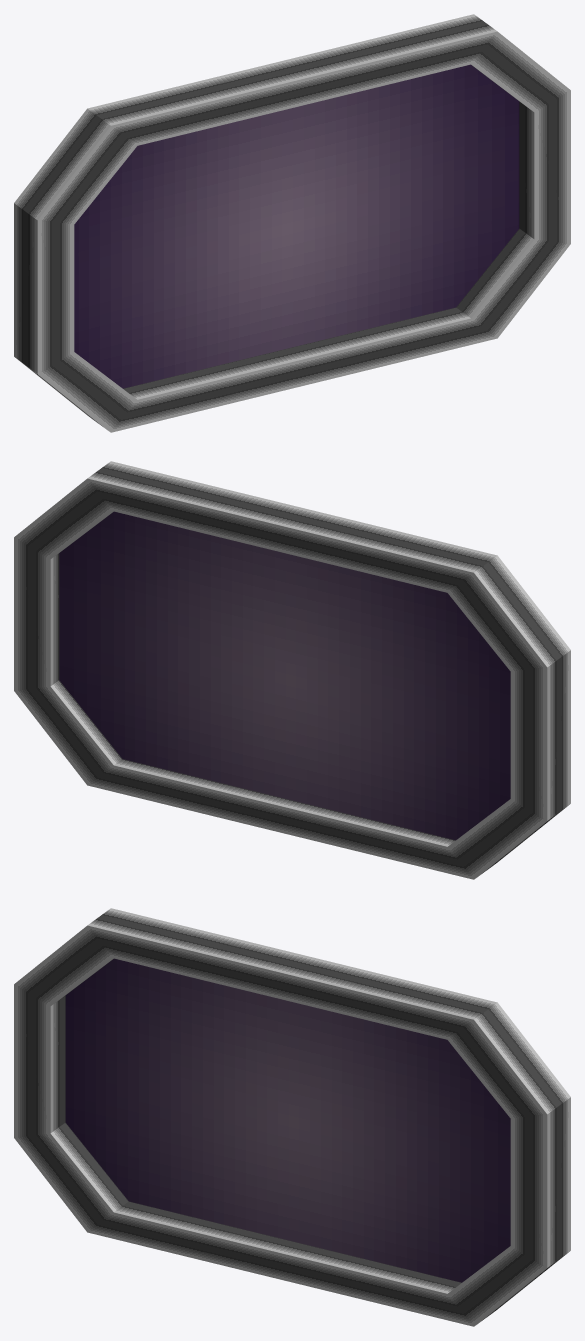
The model's file is Paddle.fbx.
3 views of the same model, one above another, from view 1: azimuth 30°, elevation 25°; view 2: azimuth 150°, elevation 25°; view 3: azimuth 330°, elevation 25° (orthographic).
Parts seen in each view (by area): view 1: Paddle; view 2: Paddle; view 3: Paddle.
Part boxes in pixels (left/top/right/bottom): Paddle: left=14, top=14, right=570, bottom=432; Paddle: left=14, top=461, right=570, bottom=879; Paddle: left=14, top=908, right=570, bottom=1326.
Size of the model in its own units: 149 by 81.87 by 11.45.
1 material, 1 textured.
